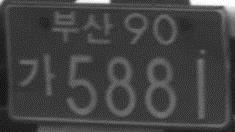0: (150, 11, 178, 47)
1: (189, 55, 212, 121)
5: (65, 54, 97, 116)
8: (143, 56, 179, 119), (105, 55, 138, 119)
9: (123, 11, 148, 46)
가: (16, 50, 57, 100)
부산_O: (50, 8, 115, 47)
